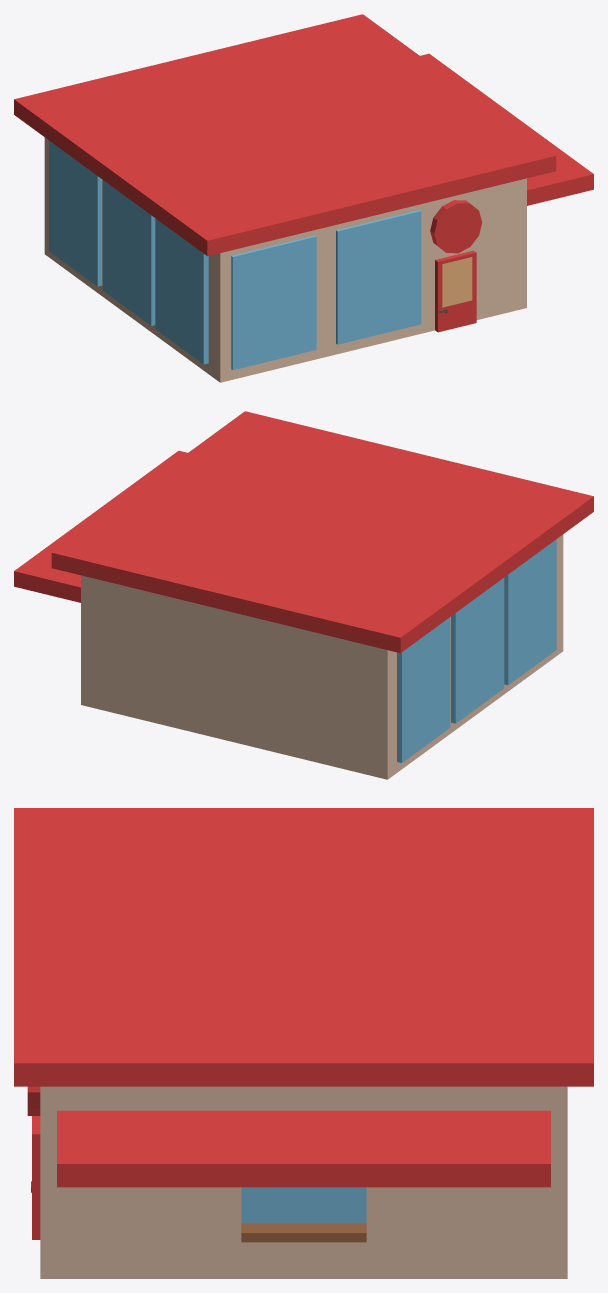
File: FastFood.fbx
3 renders of one model, top to bottom at view 1: azimuth 30°, elevation 25°; view 2: azimuth 150°, elevation 25°; view 3: azimuth 270°, elevation 25°, orthographic. The views are drawn at different scales.
Visible parts, largest first — view 1: pCube45; view 2: pCube45; view 3: pCube45.
Boxes of the visible parts, x1=… form: pCube45: x1=14, y1=14, x2=593, y2=382; pCube45: x1=14, y1=411, x2=593, y2=779; pCube45: x1=14, y1=808, x2=593, y2=1278.
Bounding box in the file's own units: 1.27 × 0.4651 × 1.06.
